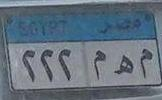2: (39, 46, 56, 85), (57, 48, 75, 84), (20, 48, 37, 83)
haa: (113, 53, 135, 78)
meem: (92, 48, 108, 82), (138, 47, 154, 79)
